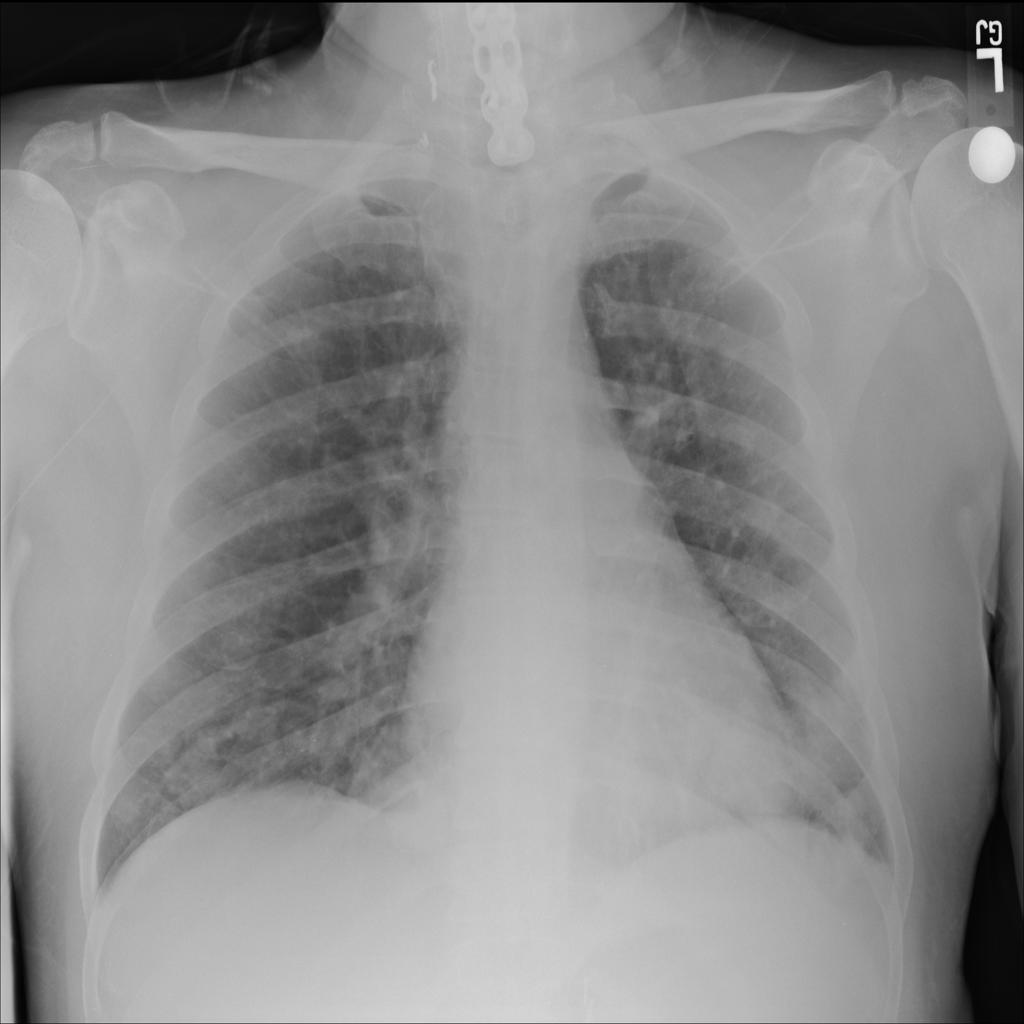nodule: (689, 710, 810, 824), (143, 711, 248, 817), (201, 601, 277, 673), (811, 774, 886, 846), (218, 688, 291, 757), (104, 782, 156, 833), (274, 310, 316, 356)
